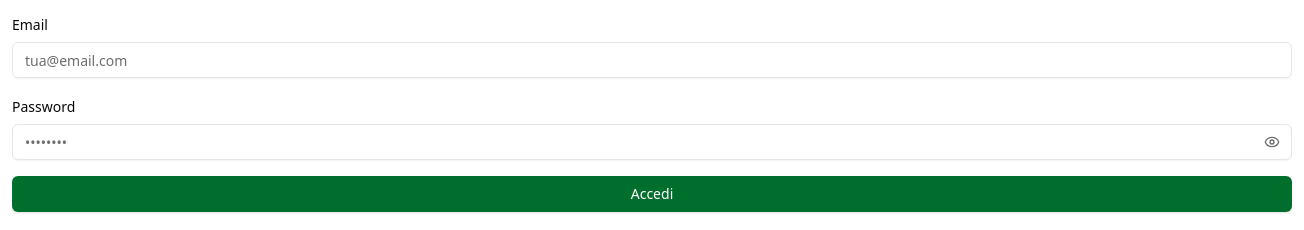
Test case: AuthForm — accessibilità ed errori › il toggle password ha un nome accessibile ed è raggiungibile da tastiera
Click the button named "mostra password". click: (1272, 142)
box: [1264,134,1280,150]
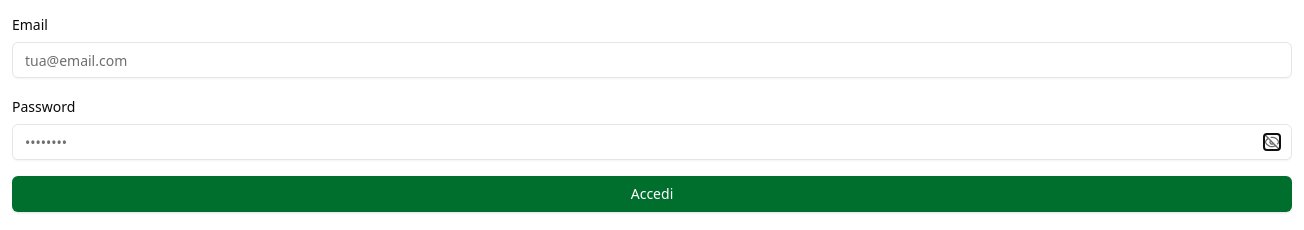
Result: the button named "nascondi password" is shown at [1264,134,1280,150]
